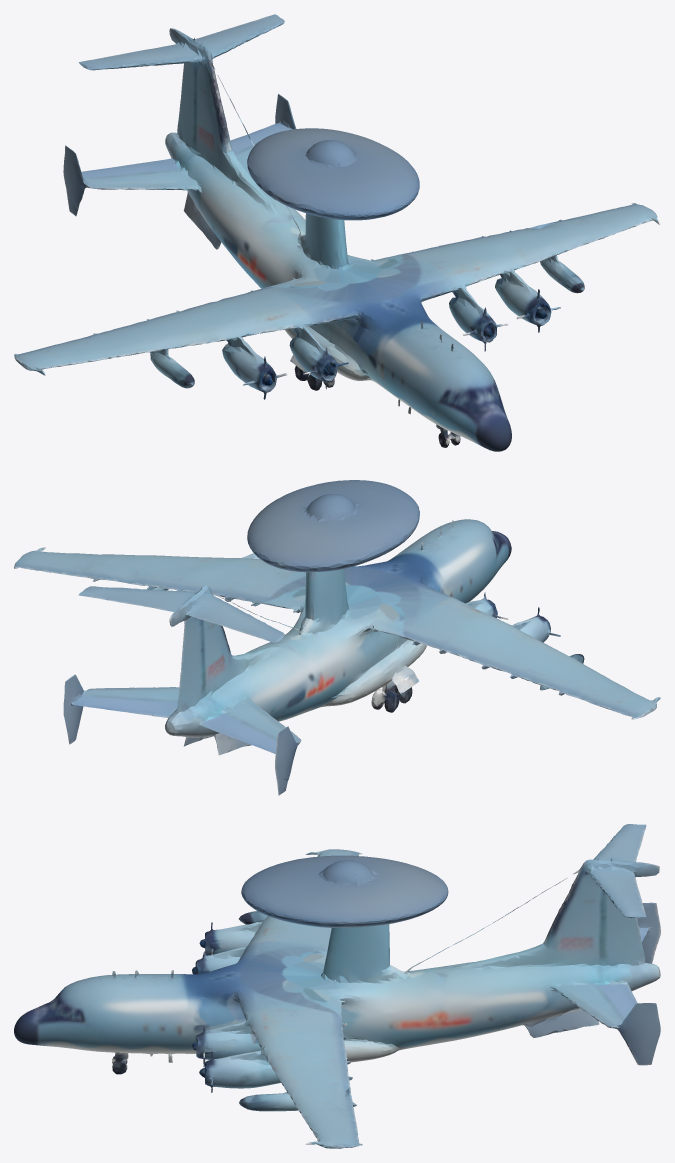
The model's file is KJ-500_AEW_C_AI_Rodin.glb.
The picture shows the model from 3 angles, top to bottom: view 1: azimuth 30°, elevation 25°; view 2: azimuth 150°, elevation 25°; view 3: azimuth 270°, elevation 25°; orthographic projection. The views are drawn at different scales.
Parts seen in each view (by area): view 1: model; view 2: model; view 3: model.
Boxes of the visible parts, x1,y1,x2,y2 form: model: (14,14,660,451); model: (14,480,660,795); model: (14,824,660,1148).
Size of the model in its own units: 1.9 by 0.6404 by 1.75.
1 material, 1 textured.
